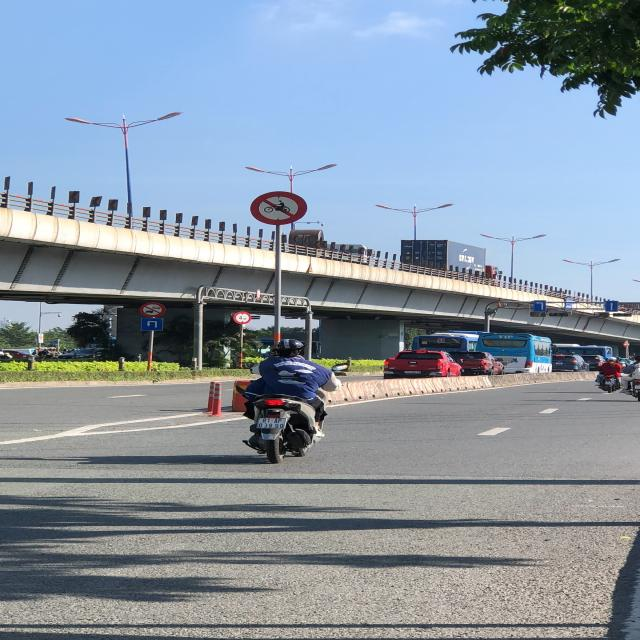Bien bao cam xe may: (246, 190, 308, 223)
